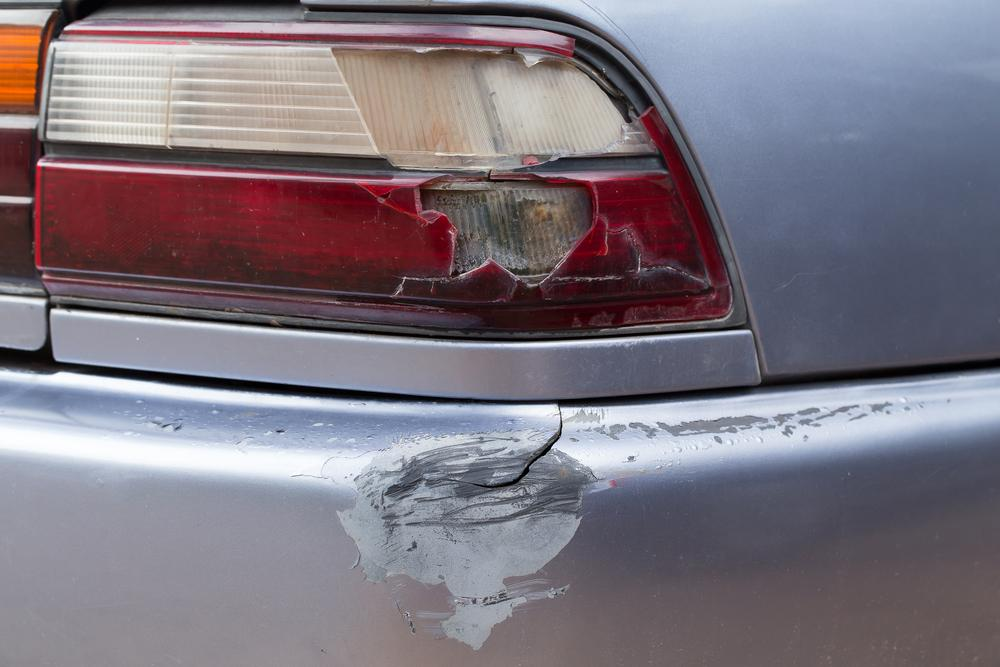crack: (446, 406, 564, 489)
lamp broken: (36, 19, 730, 334)
scratch: (321, 427, 615, 654)
